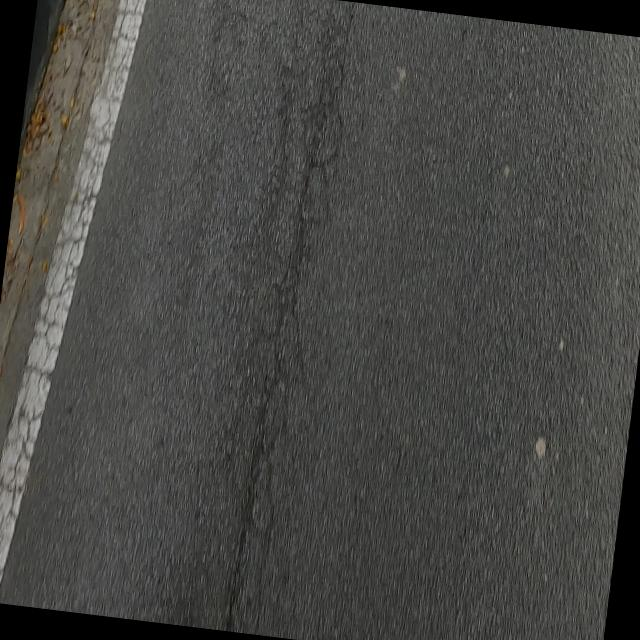Retak-Buaya: (0, 0, 147, 566)
Retak-Memanjang: (223, 131, 323, 632)
